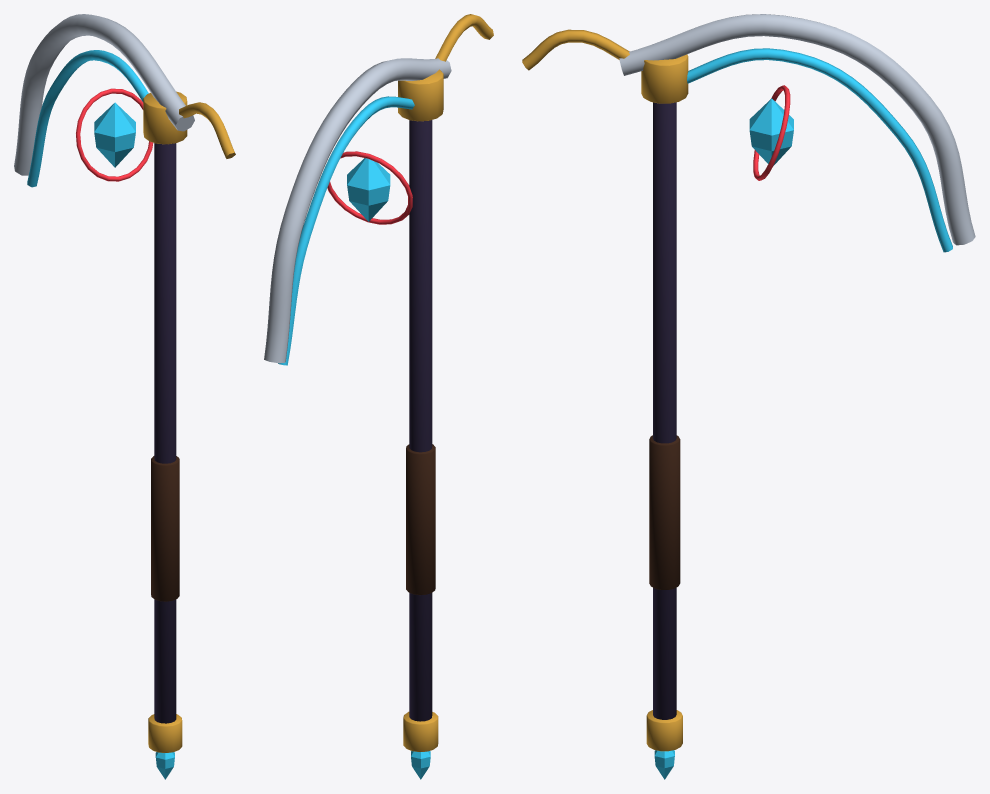
File: magic_crimson_scythe.obj
The picture shows the model from 3 angles, left to right: view 1: azimuth 30°, elevation 25°; view 2: azimuth 150°, elevation 25°; view 3: azimuth 270°, elevation 25°; orthographic projection. The views are drawn at different scales.
Parts seen in each view (by area): view 1: Shaft, BladeSpine, Grip, BladeEdgeGlow, CrookOrb, Collar, CrookHalo, Pommel, BackSpike, PommelOrb; view 2: Shaft, BladeSpine, Grip, BladeEdgeGlow, CrookOrb, Collar, Pommel, CrookHalo, BackSpike, PommelOrb; view 3: Shaft, BladeSpine, Grip, BladeEdgeGlow, Collar, CrookOrb, BackSpike, Pommel, CrookHalo.
Boxes of the visible parts, x1,y1,x2,y2 form: Shaft: (154,143,176,723); BladeSpine: (14,14,194,175); Grip: (151,456,179,601); BladeEdgeGlow: (27,50,148,187); CrookOrb: (94,102,135,167); Collar: (143,91,187,144); CrookHalo: (76,88,153,181); Pommel: (148,714,182,752); BackSpike: (179,102,235,158); PommelOrb: (155,752,174,779); Shaft: (409,120,432,721); BladeSpine: (264,58,451,363); Grip: (406,444,435,595); BladeEdgeGlow: (278,96,414,365); CrookOrb: (347,158,390,221); Collar: (398,69,443,121); Pommel: (403,711,438,751); CrookHalo: (327,151,412,224); BackSpike: (435,14,493,61); PommelOrb: (411,751,430,779); Shaft: (653,102,676,719); BladeSpine: (619,14,975,245); Grip: (649,435,680,589); BladeEdgeGlow: (687,48,952,252); Collar: (641,54,688,103); CrookOrb: (749,98,793,165); BackSpike: (522,29,629,70); Pommel: (646,710,682,751); CrookHalo: (753,85,790,180).
Size of the model in its own units: 0.1851 by 1.58 by 0.8474.
